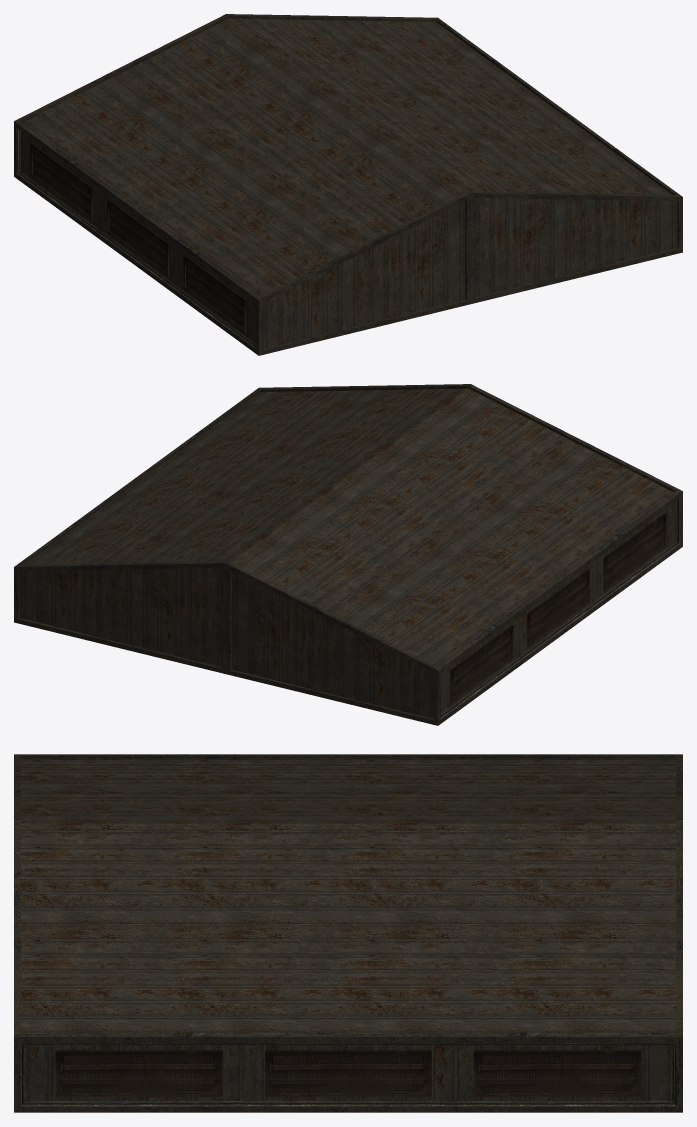
Rendered from roof_mh_4_b_2.dae.
3 views of the same model, one above another, from view 1: azimuth 30°, elevation 25°; view 2: azimuth 150°, elevation 25°; view 3: azimuth 270°, elevation 25° (orthographic). The views are drawn at different scales.
Parts seen in each view (by area): view 1: roof_mh_4_b_2; view 2: roof_mh_4_b_2; view 3: roof_mh_4_b_2.
Boxes of the visible parts, x1=… form: roof_mh_4_b_2: x1=14, y1=14, x2=682, y2=355; roof_mh_4_b_2: x1=14, y1=384, x2=682, y2=725; roof_mh_4_b_2: x1=14, y1=754, x2=682, y2=1112.
Size of the model in its own units: 8 by 8 by 2.
Materials: 6 (6 with a texture image).
